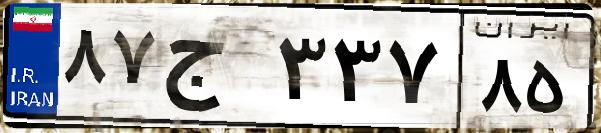3: (270, 28, 330, 110), (330, 28, 385, 110)
5: (525, 38, 570, 115)
7: (385, 28, 445, 110), (110, 28, 158, 98)
8: (57, 26, 110, 100), (475, 38, 525, 113)
ج: (158, 20, 270, 120)
